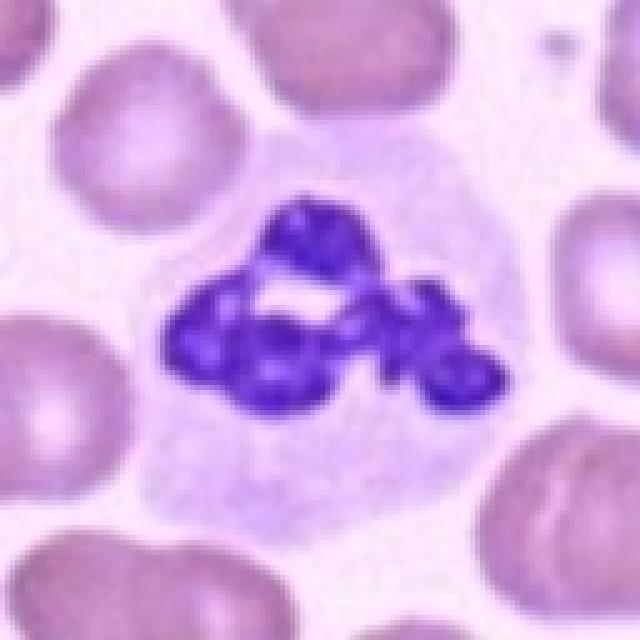neutro: (80, 60, 589, 575)
